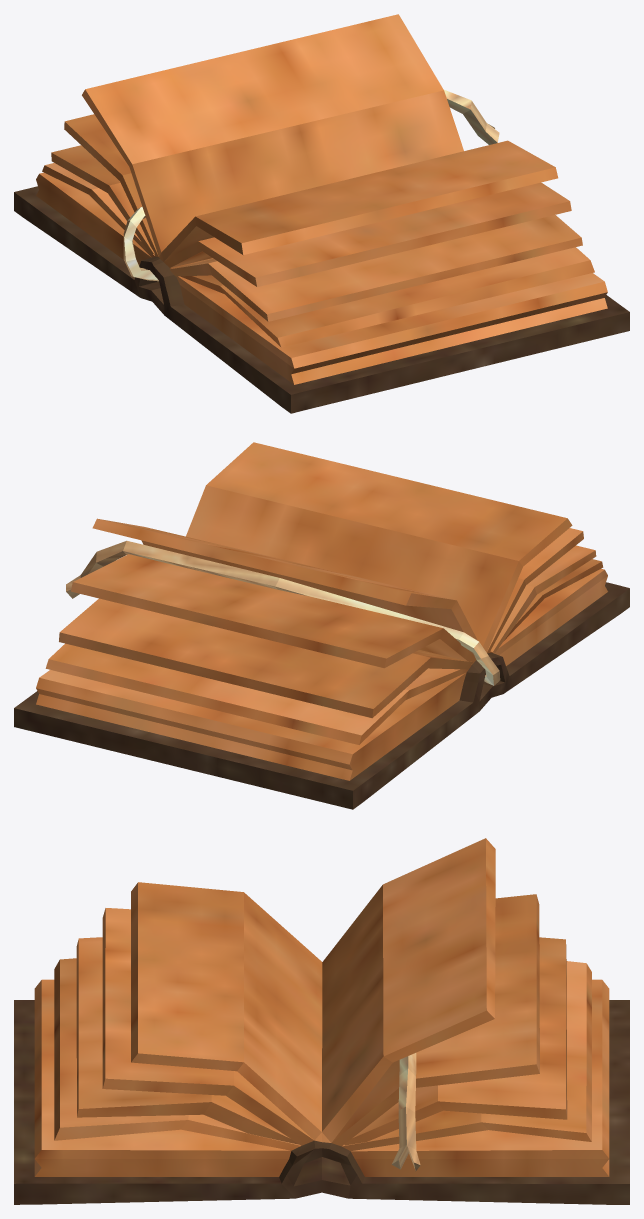
Rendered from Book_Table.fbx.
3 renders of one model, top to bottom at view 1: azimuth 30°, elevation 25°; view 2: azimuth 150°, elevation 25°; view 3: azimuth 270°, elevation 25°, orthographic. The views are drawn at different scales.
Visible parts, largest first — view 1: book02; view 2: book02; view 3: book02.
Boxes of the visible parts, x1=… form: book02: x1=14, y1=14, x2=629, y2=413; book02: x1=14, y1=442, x2=629, y2=809; book02: x1=14, y1=838, x2=629, y2=1204.
Bounding box in the file's own units: 0.3593 × 0.1434 × 0.4292.
